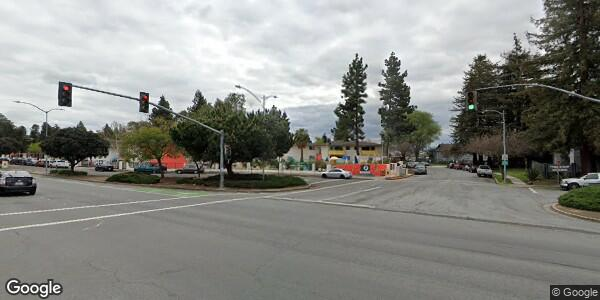Steel_Pole: (481, 107, 510, 183), (10, 100, 64, 132), (233, 83, 279, 109)
